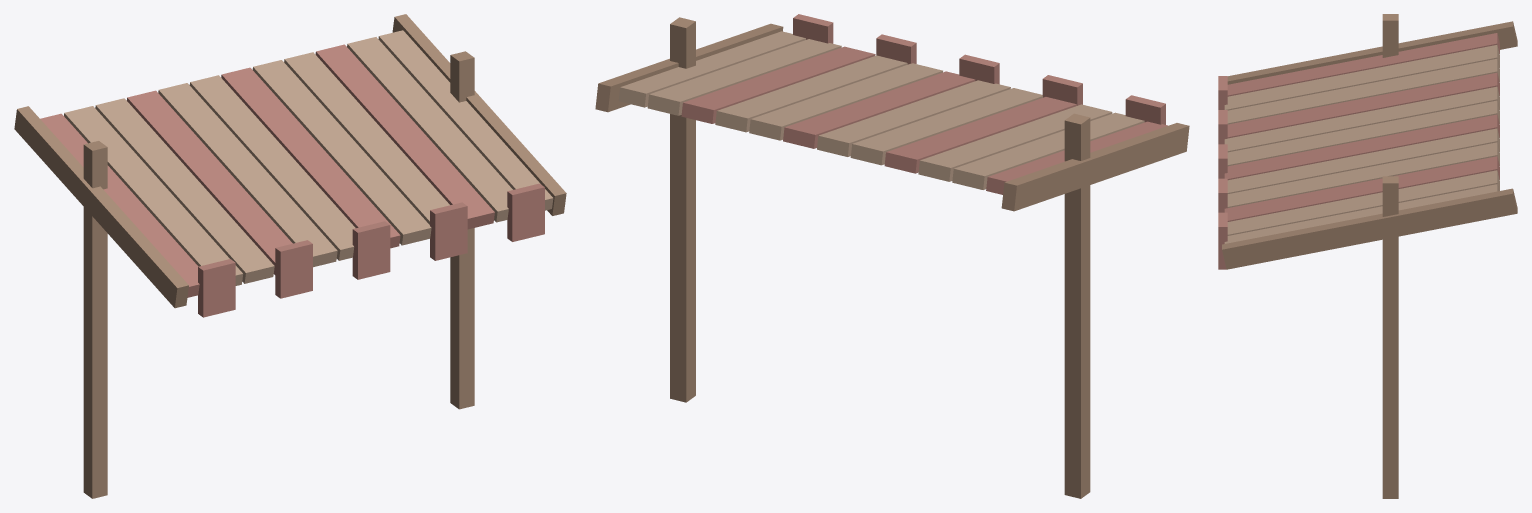
File: market_cloth_awning_2m.glb
3 views of the same model, side by side, from view 1: azimuth 30°, elevation 25°; view 2: azimuth 150°, elevation 25°; view 3: azimuth 270°, elevation 25° (orthographic). The views are drawn at different scales.
Parts seen in each view (by area): view 1: box_0, box_9, box_4, box_11, box_6, box_7, box_12, box_14, box_8, box_5, box_10, box_3 (+9 smaller); view 2: box_0, box_1, box_14, box_11, box_9, box_6, box_12, box_8, box_7, box_10, box_5, box_4 (+9 smaller); view 3: box_15, box_1, box_3, box_6, box_8, box_5, box_9, box_4, box_7, box_10, box_11, box_12 (+6 smaller).
Part boxes in pixels (x1,y1,x2,y2): box_0: (83, 141, 107, 498); box_9: (252, 60, 431, 245); box_4: (95, 98, 274, 283); box_11: (315, 44, 494, 229); box_6: (158, 83, 337, 267); box_7: (189, 75, 355, 260); box_12: (347, 37, 512, 222); box_14: (14, 106, 188, 308); box_8: (221, 67, 400, 248); box_5: (127, 90, 292, 274); box_10: (284, 52, 449, 224); box_3: (64, 106, 243, 285); box_0: (1064, 113, 1090, 498); box_1: (670, 17, 695, 402); box_14: (1001, 123, 1189, 211); box_11: (681, 46, 875, 123); box_9: (749, 63, 942, 140); box_6: (850, 88, 1042, 165); box_12: (647, 39, 841, 115); box_8: (783, 71, 975, 148); box_7: (817, 80, 1010, 156); box_10: (715, 55, 907, 132); box_5: (884, 97, 1076, 173); box_4: (918, 104, 1112, 181); box_15: (1222, 188, 1517, 269); box_1: (1382, 176, 1398, 498); box_3: (1224, 45, 1499, 110); box_6: (1224, 86, 1499, 152); box_8: (1224, 114, 1499, 180); box_5: (1227, 72, 1499, 138); box_9: (1227, 128, 1499, 193); box_4: (1227, 59, 1499, 124); box_7: (1227, 100, 1499, 166); box_10: (1227, 142, 1499, 207); box_11: (1224, 156, 1499, 221); box_12: (1227, 170, 1499, 235).
Size of the model in its own units: 2.16 by 1.85 by 1.59.
